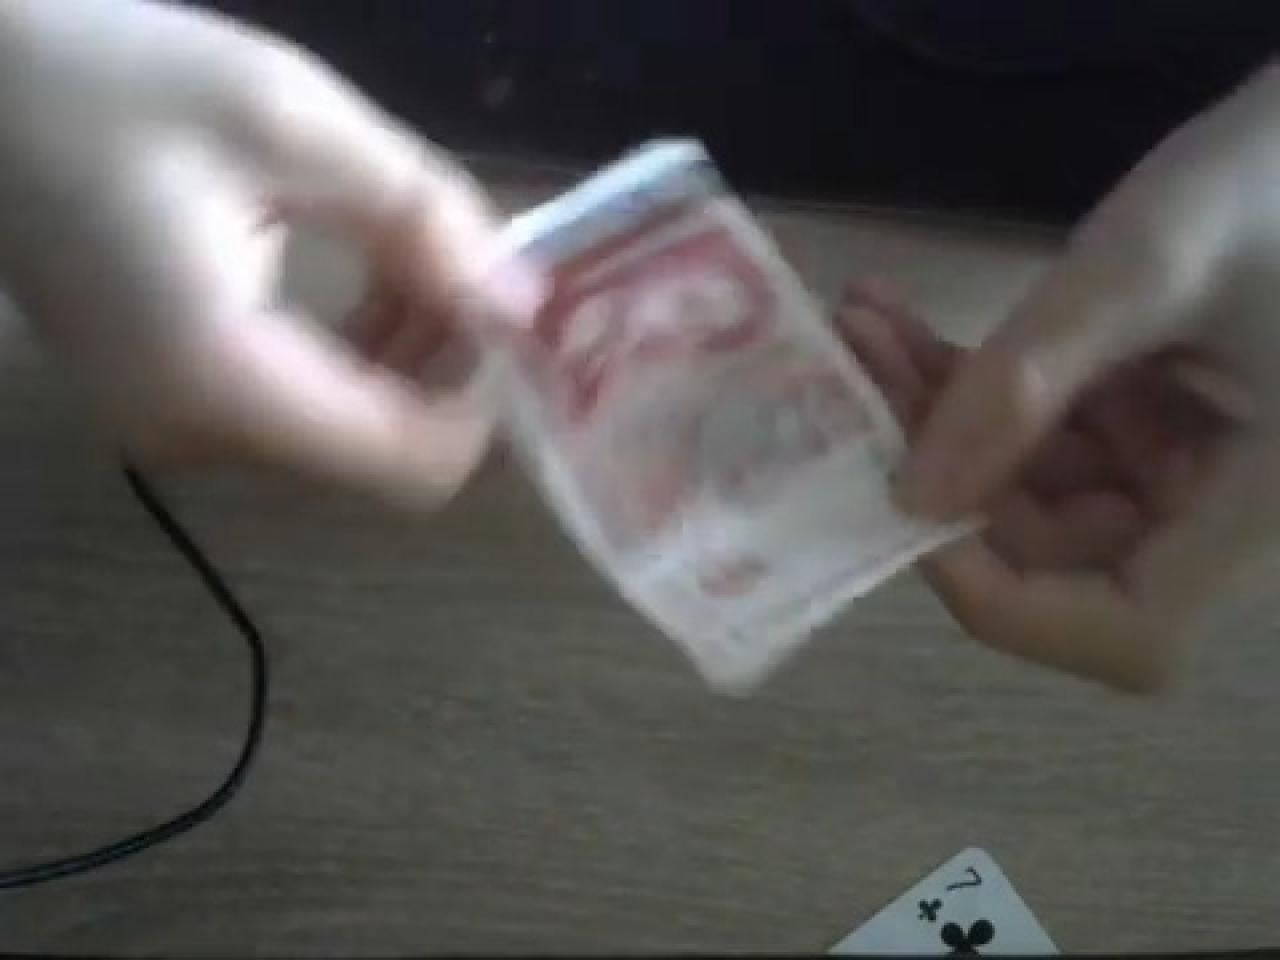5leva: (472, 141, 984, 699)
